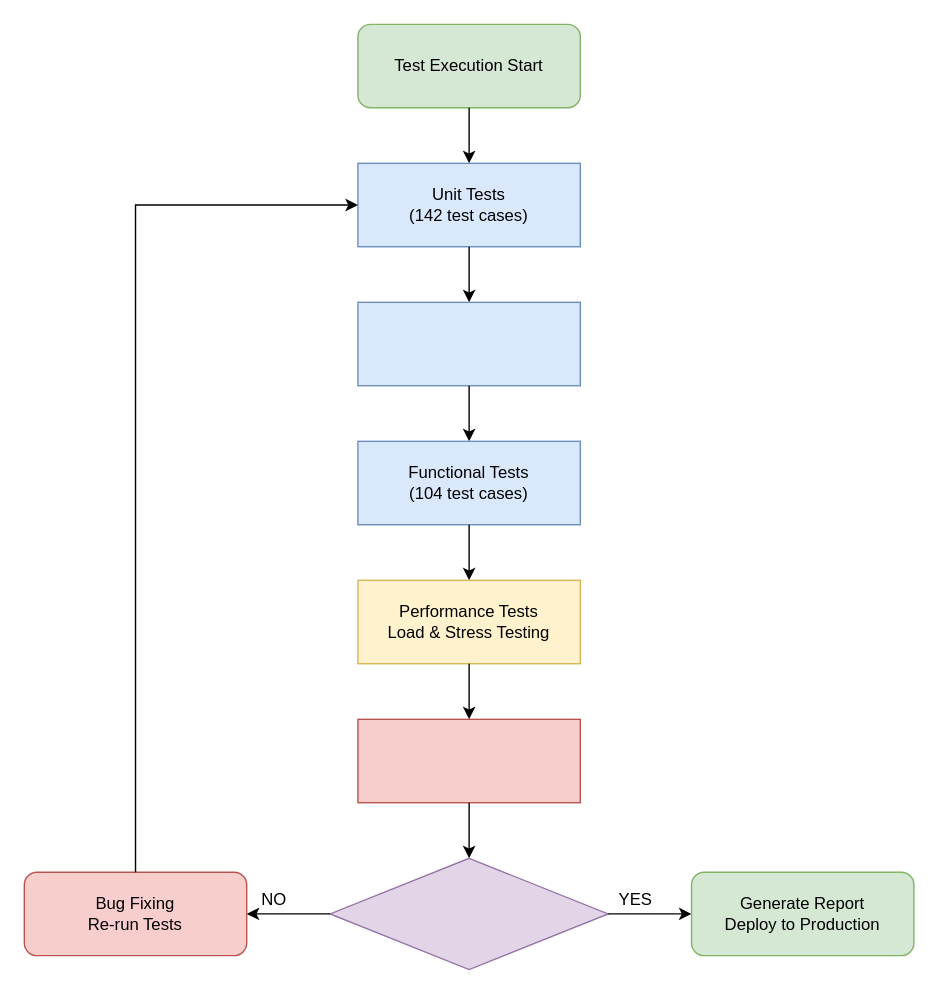
Image size: 938x994. Some labels were removed from this diagram. Each missing label, with the centre of its shape:
"All Tests Passed?" goes at point (468, 913).
"Integration Tests (38 test cases)" goes at point (468, 343).
"Security Tests Vulnerability Assessment" goes at point (468, 760).
